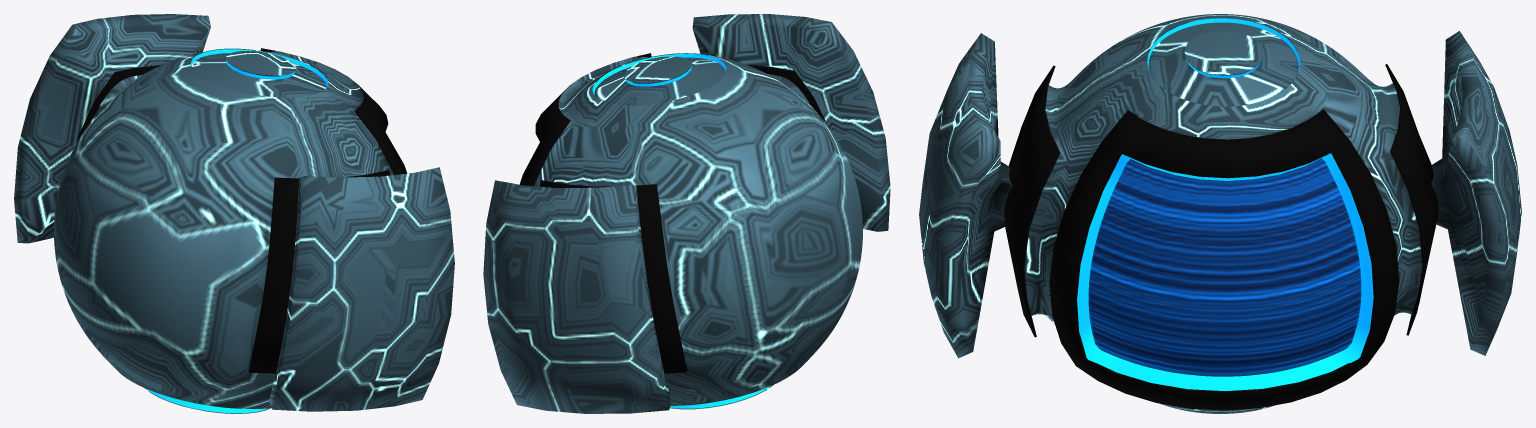
Rendered from drone.glb.
3 renders of one model, left to right at view 1: azimuth 30°, elevation 25°; view 2: azimuth 150°, elevation 25°; view 3: azimuth 270°, elevation 25°, orthographic. The views are drawn at different scales.
Visible parts, largest first — view 1: drone_0; view 2: drone_0; view 3: drone_0.
Part boxes in pixels (<box>): drone_0: <box>14,14,454,413</box>; drone_0: <box>483,14,890,413</box>; drone_0: <box>919,14,1521,413</box>.
Bounding box in the file's own units: 0.1549 × 0.1603 × 0.2405.
Materials: 5 (3 with a texture image).
